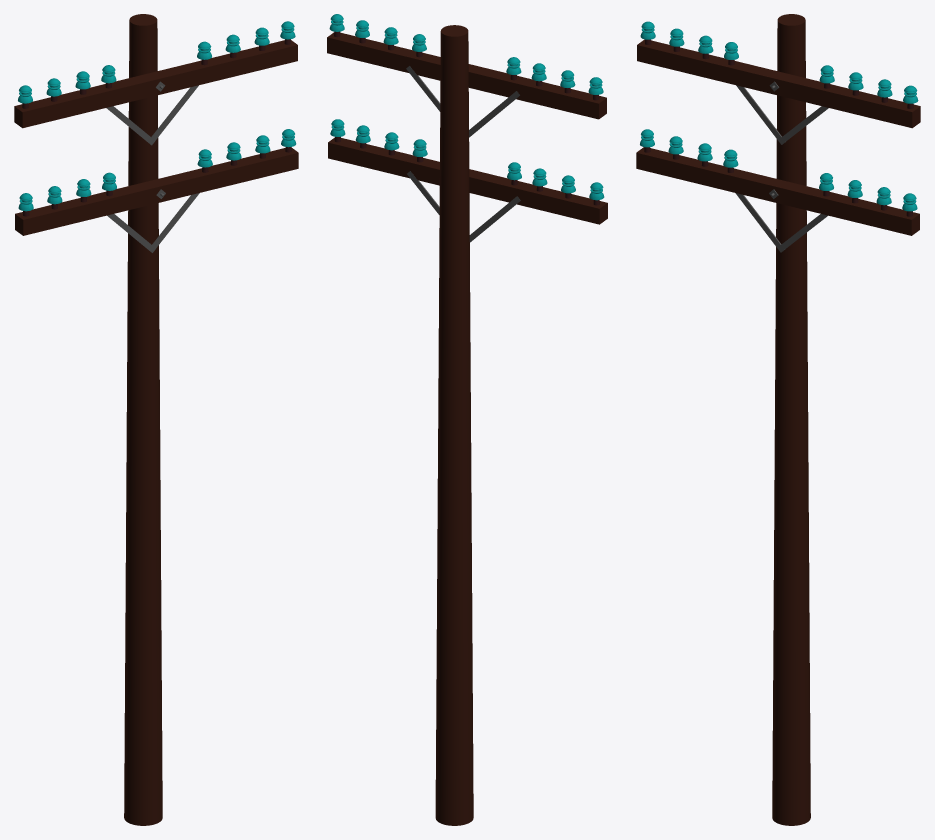
3 renders of one model, left to right at view 1: azimuth 30°, elevation 25°; view 2: azimuth 150°, elevation 25°; view 3: azimuth 330°, elevation 25°, orthographic.
Visible parts, largest first — view 1: SketchUp, group_3 (×2); view 2: SketchUp, group_3 (×2); view 3: SketchUp, group_3 (×2).
Boxes of the visible parts, box(x1,y1,x2,y2) form: SketchUp: box(124, 14, 162, 825); group_3 (×2): box(14, 40, 298, 235); SketchUp: box(435, 25, 473, 825); group_3 (×2): box(327, 32, 607, 224); SketchUp: box(772, 14, 810, 825); group_3 (×2): box(636, 39, 920, 235).
Bounding box in the file's own units: 84.46 × 15.6 × 233.
